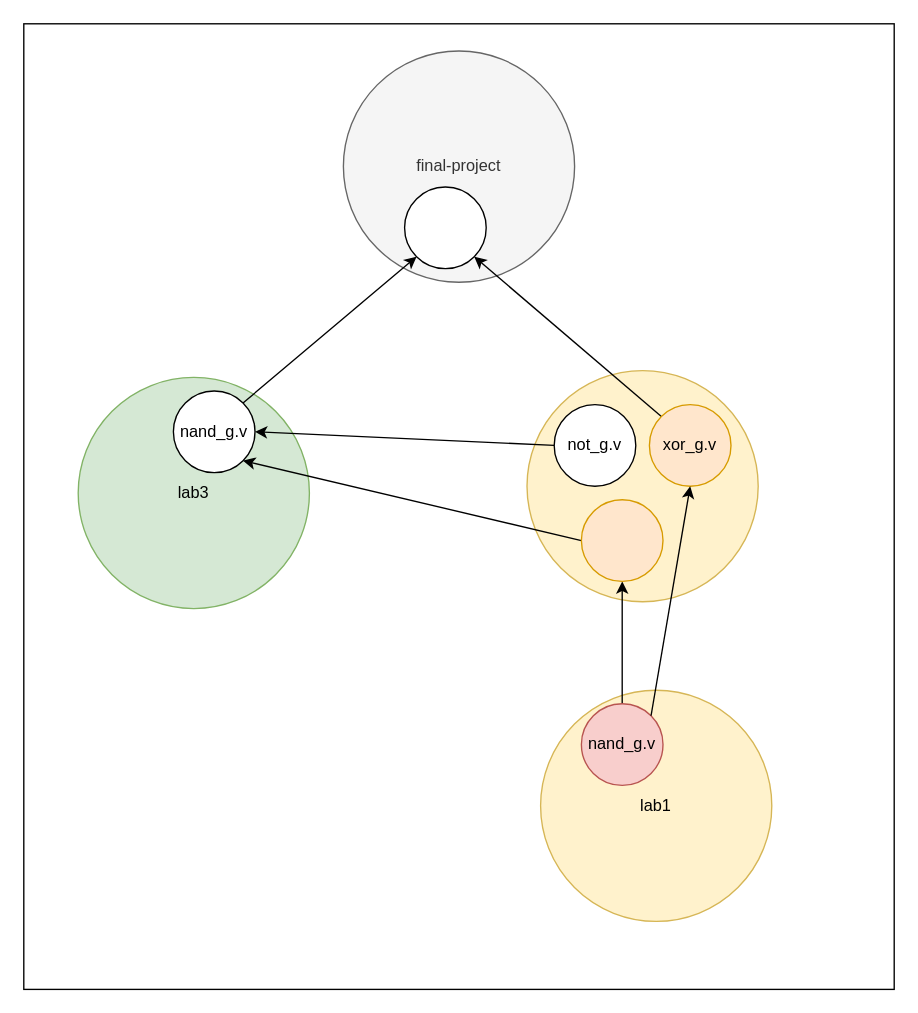
Some shapes in this 918 by 1013 pixel diagram are drawn without their labels. The box of each missing label's shape, as (x1, y1, x2, y2) in pixels:
and_g.v: (580, 498, 663, 581)
half_add.v: (403, 186, 486, 269)
lab2: (526, 369, 758, 602)
